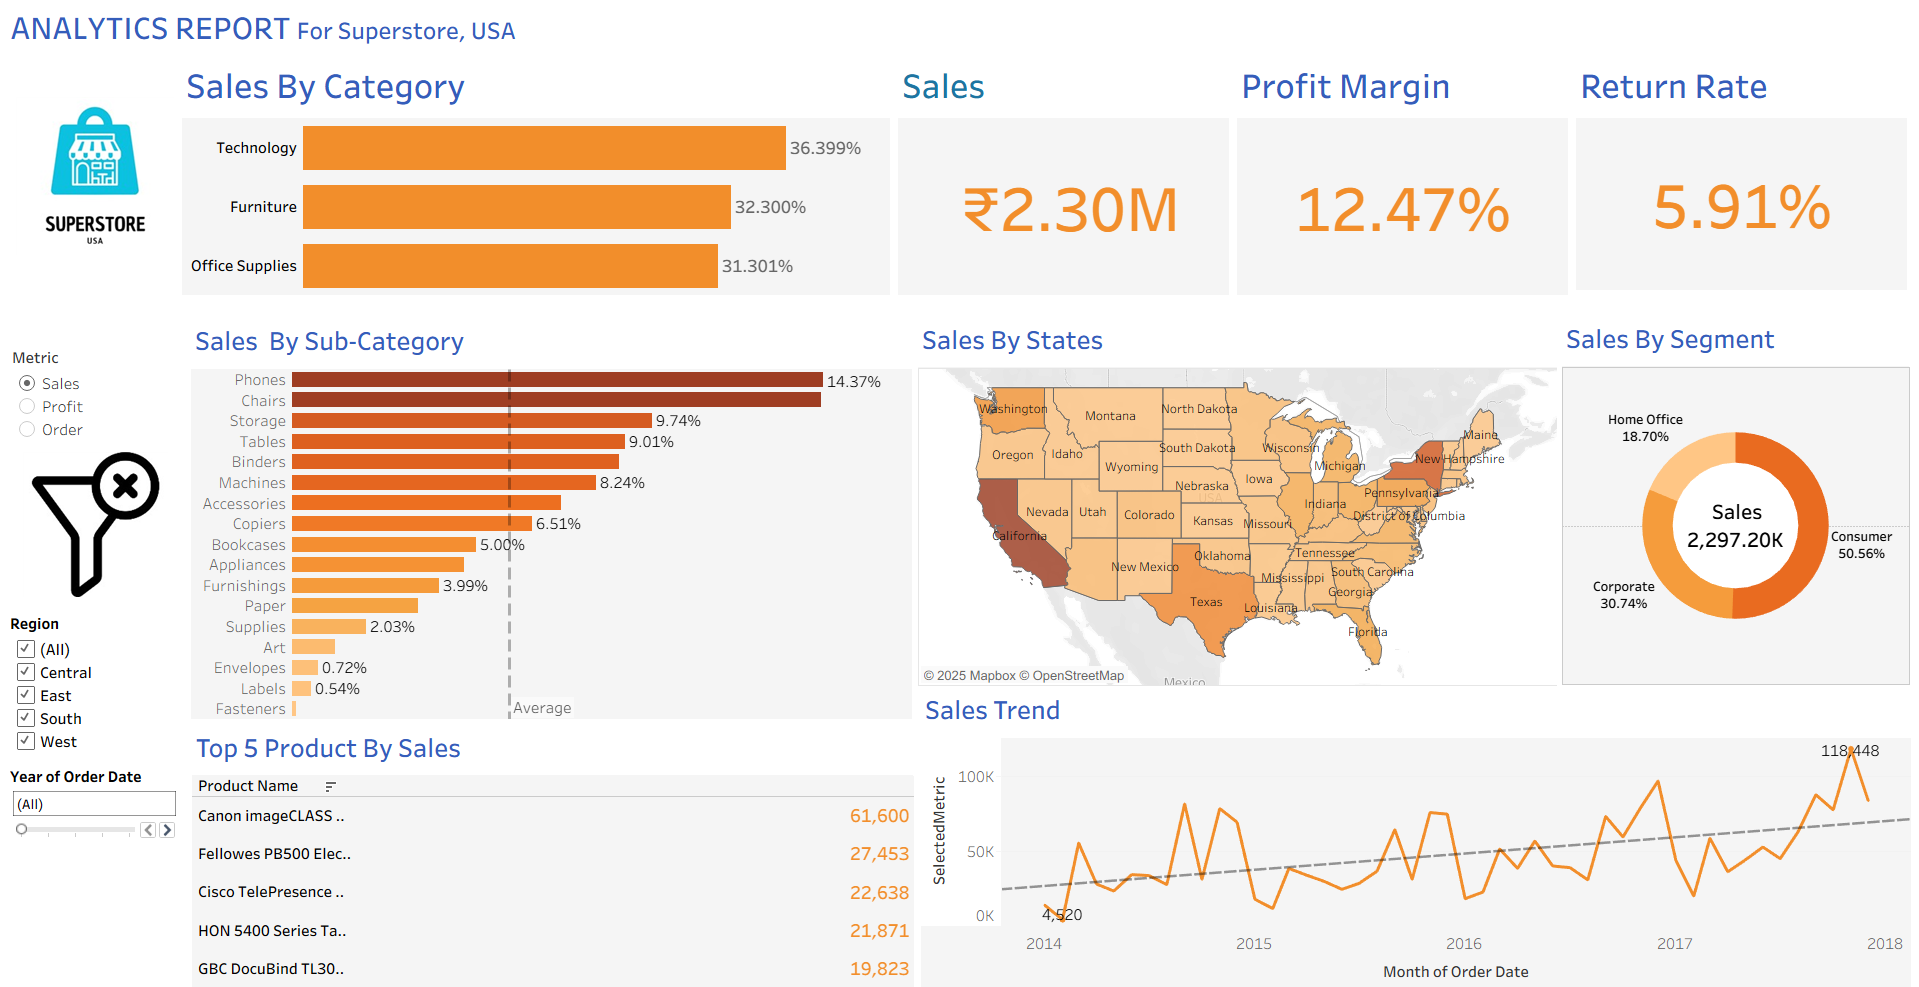

Layout of this report page (visuals, bound fields, positions):
{"tool":"tableau","page":{"name":"Dashboard 2","canvas":[1000,1000],"units":"permille","ordinal":1},"visuals":[{"type":"text","box":[3.6,0,314.4,59.9]},{"type":"image","param":"Image/Logo.jpg","box":[6.4,57.4,100.2,247.2]},{"type":"worksheet","title":"Assignment 7 Chart 1","mark":"Automatic","rows":["Category"],"cols":["Calculation_689895202537000962"],"box":[106.6,57.4,432.1,247.2]},{"type":"worksheet","title":"Assignment 7. a1","mark":"Automatic","box":[538.7,57.4,152.2,247.2]},{"type":"worksheet","title":"Assignment 7. a2","mark":"Automatic","box":[690.9,57.4,152.2,247.2]},{"type":"worksheet","title":"Assignment 7. a3","mark":"Automatic","box":[843.1,57.4,152.2,247.2]},{"type":"worksheet","title":"Assignment 7 chart 4","mark":"Pie","rows":["Calculation_689895202562826243","Calculation_689895202562826243"],"box":[813.5,322.1,181.1,370.8]},{"type":"worksheet","title":"Assignment 7 Chart 3","mark":"Automatic","box":[478,323.4,333.1,370.8]},{"type":"worksheet","title":"Assignment 7 Chart 2","mark":"Automatic","rows":["Sub-Category"],"cols":["Calculation_689895202537000962"],"box":[99.6,324.6,375.5,403.2]},{"type":"parameter","param":"[Parameters].[Parameter 3]","box":[4.1,348.3,91.4,129.8]},{"type":"dashboard-object","box":[4.1,478.2,91.4,129.8]},{"type":"filter","title":"Assignment 7 Chart 1","param":"[federated.0qijpv210ykua21cahsao10l4y14].[none:Region:nk]","box":[2.9,616.7,92,189.8]},{"type":"worksheet","title":"Assignment 7 Chart 5","mark":"Line","rows":["Calculation_689895202537000962"],"cols":["Order Date"],"box":[479.8,695.4,515.4,303.4]},{"type":"worksheet","title":"Assignment 7 Chart 6","mark":"Automatic","rows":["Product Name"],"box":[100.2,734.1,376.1,263.4]},{"type":"filter","title":"Assignment 7 Chart 1","param":"[federated.0qijpv210ykua21cahsao10l4y14].[yr:Order Date:ok]","box":[2.9,806.5,92,189.8]}]}

Visuals, with their boxes on the dashboard's canvas, which has no fixed pixel size, in thousandths of its width and height (x1, y1, x2, y2). These are canvas units, not pixel positions in the 1919x987 screenshot, which may show the page scaled, cropped or inside an application window:
text: [left=4, top=0, right=318, bottom=60]
image: [left=6, top=57, right=107, bottom=305]
"Assignment 7 Chart 1" worksheet: [left=107, top=57, right=539, bottom=305]
"Assignment 7. a1" worksheet: [left=539, top=57, right=691, bottom=305]
"Assignment 7. a2" worksheet: [left=691, top=57, right=843, bottom=305]
"Assignment 7. a3" worksheet: [left=843, top=57, right=995, bottom=305]
"Assignment 7 chart 4" worksheet (Pie marks): [left=814, top=322, right=995, bottom=693]
"Assignment 7 Chart 3" worksheet: [left=478, top=323, right=811, bottom=694]
"Assignment 7 Chart 2" worksheet: [left=100, top=325, right=475, bottom=728]
parameter: [left=4, top=348, right=96, bottom=478]
dashboard-object: [left=4, top=478, right=96, bottom=608]
"Assignment 7 Chart 1" filter: [left=3, top=617, right=95, bottom=806]
"Assignment 7 Chart 5" worksheet (Line marks): [left=480, top=695, right=995, bottom=999]
"Assignment 7 Chart 6" worksheet: [left=100, top=734, right=476, bottom=998]
"Assignment 7 Chart 1" filter: [left=3, top=806, right=95, bottom=996]
